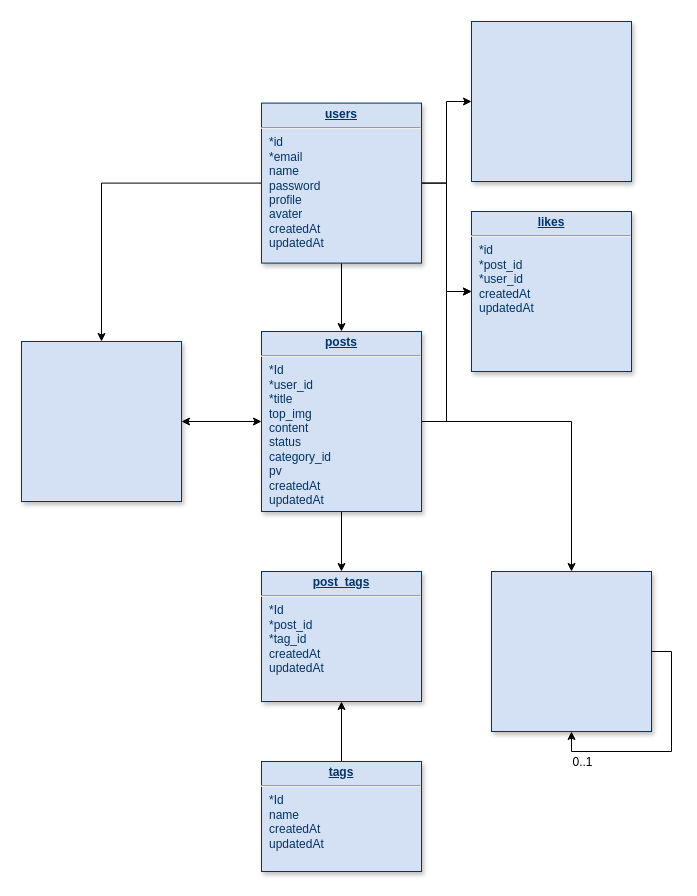
Image size: 697x896. Some labels were removed from this diagram. The centre of each missing label's shape, as x and y in pixels:
"categories *Id name parent_id createdAt updatedAt" belongs at point 572,652.
"comments *Id *post_id *user_id comment *createdAt updatedAt" belongs at point 102,422.
"follows id user_id followe_user_id createdAt updatedAt" belongs at point 552,102.
